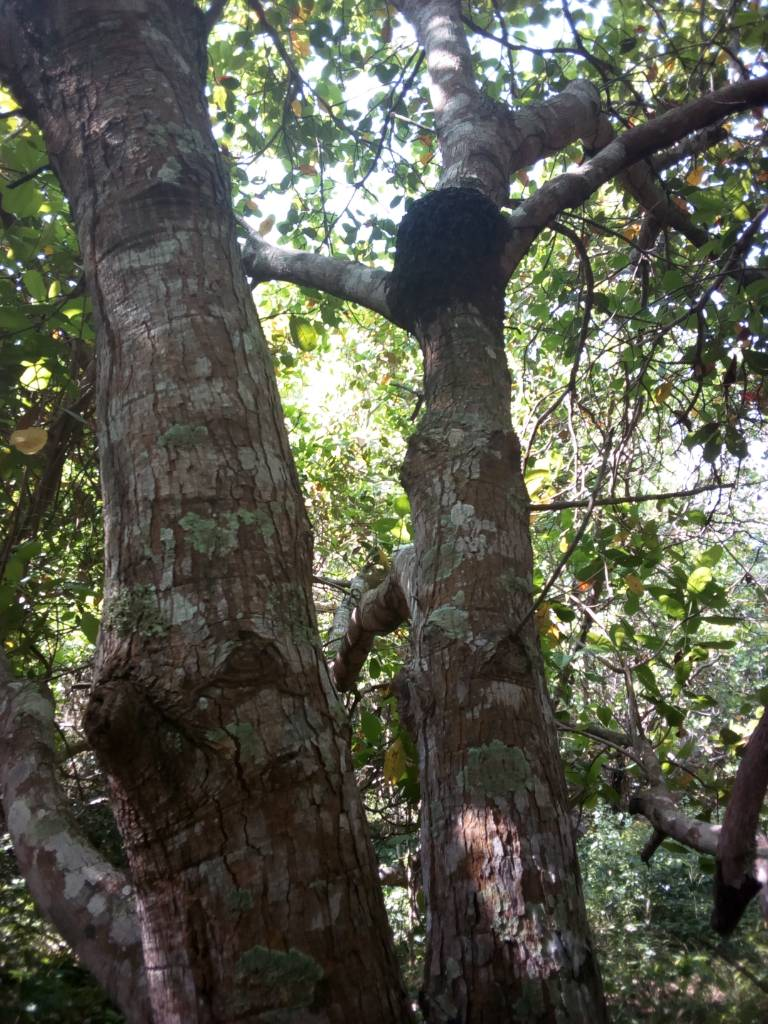Termites: (386, 189, 508, 321)
